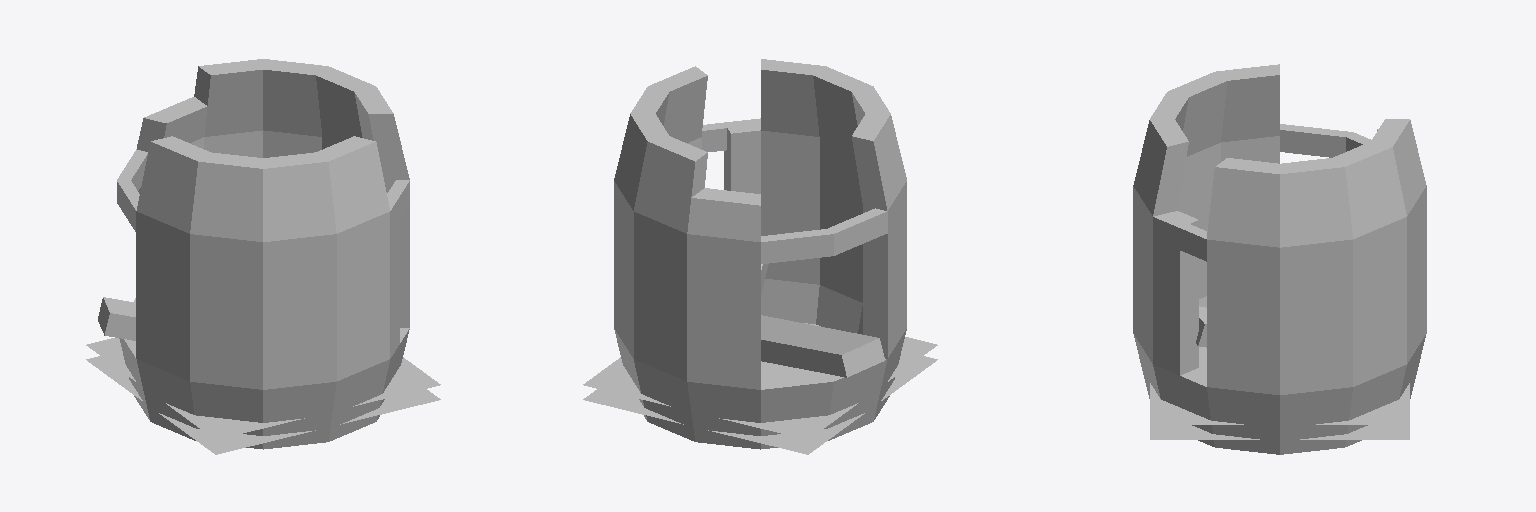
Rendered from broken_rusty_round_barrel.obj.
3 views of the same model, side by side, from view 1: azimuth 30°, elevation 25°; view 2: azimuth 150°, elevation 25°; view 3: azimuth 270°, elevation 25° (orthographic).
Parts seen in each view (by area): view 1: barrel1, bottom, barrel2, barrel5, barrel3, plank1; view 2: barrel1, bottom, plank1, barrel3, barrel2, barrel5, barrel4; view 3: barrel1, barrel5, bottom, barrel3, barrel4.
Boxes of the visible parts, <box> form: barrel1: <box>119,59,409,449</box>; bottom: <box>86,338,440,454</box>; barrel2: <box>137,97,207,151</box>; barrel5: <box>387,194,399,358</box>; barrel3: <box>117,149,147,231</box>; plank1: <box>98,297,135,340</box>; barrel1: <box>614,59,906,449</box>; bottom: <box>583,323,937,454</box>; plank1: <box>761,315,884,377</box>; barrel3: <box>761,208,887,263</box>; barrel2: <box>687,188,760,241</box>; barrel5: <box>724,118,760,193</box>; barrel4: <box>702,123,726,151</box>; barrel1: <box>1133,64,1426,454</box>; barrel5: <box>1153,211,1198,375</box>; bottom: <box>1150,347,1409,439</box>; barrel3: <box>1280,124,1371,157</box>; barrel4: <box>1180,224,1206,261</box>.
Bounding box in the file's own units: 1.19 × 1.19 × 1.12.